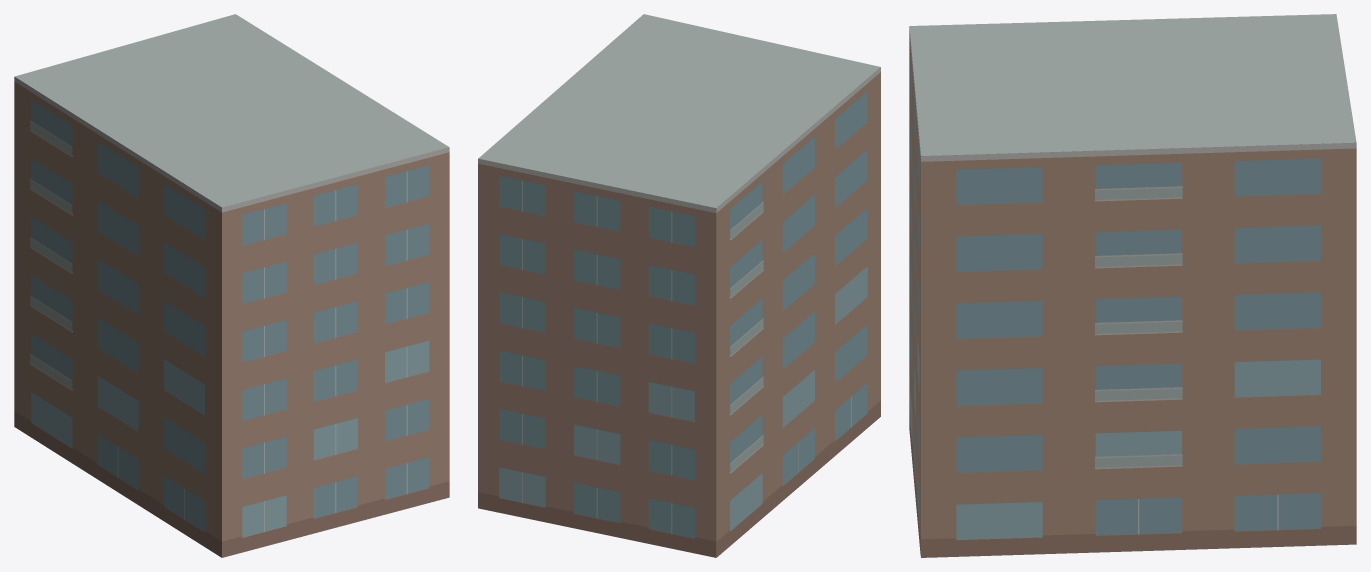
Rendered from survey-upis-32842069.glb.
The picture shows the model from 3 angles, left to right: view 1: azimuth 30°, elevation 25°; view 2: azimuth 150°, elevation 25°; view 3: azimuth 270°, elevation 25°; orthographic projection. The views are drawn at different scales.
Visible parts, largest first — view 1: survey-upis-32842069.tmp; view 2: survey-upis-32842069.tmp; view 3: survey-upis-32842069.tmp.
Part boxes in pixels (box(x1,y1,x2,y2)): survey-upis-32842069.tmp: box(14, 14, 449, 557); survey-upis-32842069.tmp: box(478, 14, 880, 557); survey-upis-32842069.tmp: box(909, 14, 1356, 557).
Bounding box in the file's own units: 12.98 × 17.1 × 17.26.
